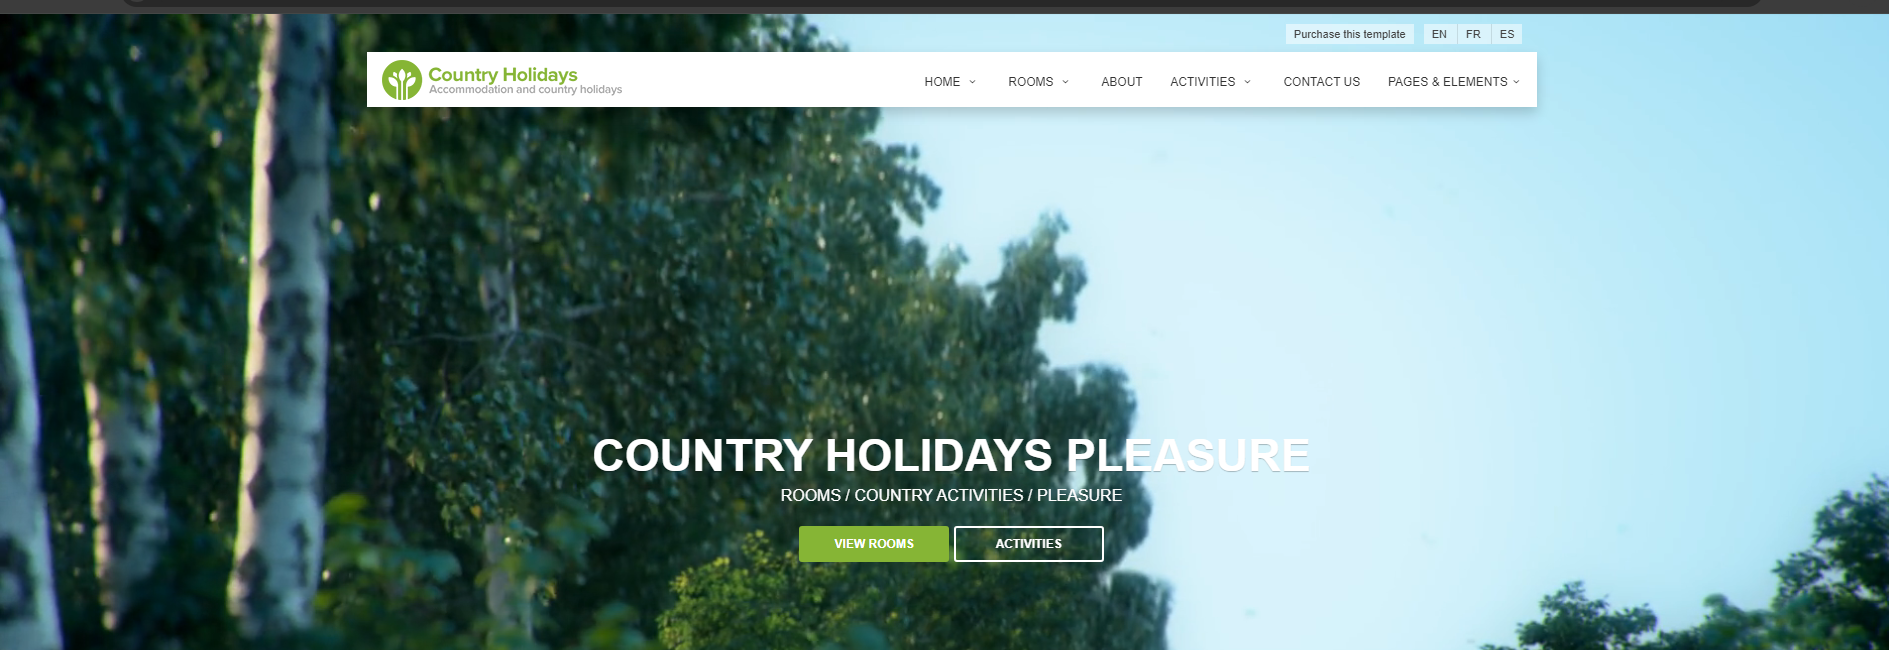menu: (20, 4, 1872, 203)
